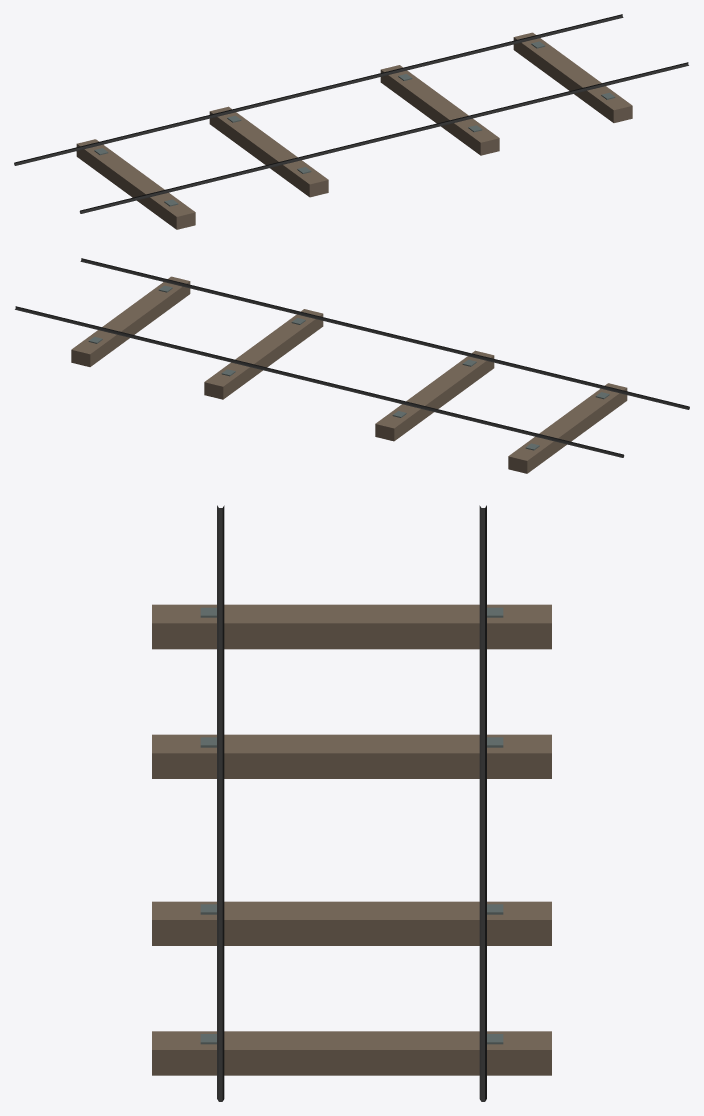
3 views of the same model, one above another, from view 1: azimuth 30°, elevation 25°; view 2: azimuth 150°, elevation 25°; view 3: azimuth 270°, elevation 25° (orthographic). The views are drawn at different scales.
Parts seen in each view (by area): view 1: RL45 | archived geometry, RL45 | line, light and sprite surfaces, Fitted street and landscape details; view 2: RL45 | archived geometry, RL45 | line, light and sprite surfaces, Fitted street and landscape details; view 3: RL45 | archived geometry, RL45 | line, light and sprite surfaces, Fitted street and landscape details.
Part boxes in pixels (box(x1,y1,x2,y2)): RL45 | archived geometry: box(76, 32, 632, 229); RL45 | line, light and sprite surfaces: box(14, 14, 688, 213); Fitted street and landscape details: box(94, 41, 615, 206); RL45 | archived geometry: box(71, 276, 627, 473); RL45 | line, light and sprite surfaces: box(15, 258, 689, 457); Fitted street and landscape details: box(88, 285, 609, 450); RL45 | archived geometry: box(152, 604, 551, 1075); RL45 | line, light and sprite surfaces: box(217, 505, 486, 1101); Fitted street and landscape details: box(200, 607, 503, 1044).
Bounding box in the file's own units: 16.06 × 0.6486 × 4.57.
